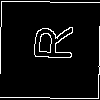R: (25, 24, 73, 62)
